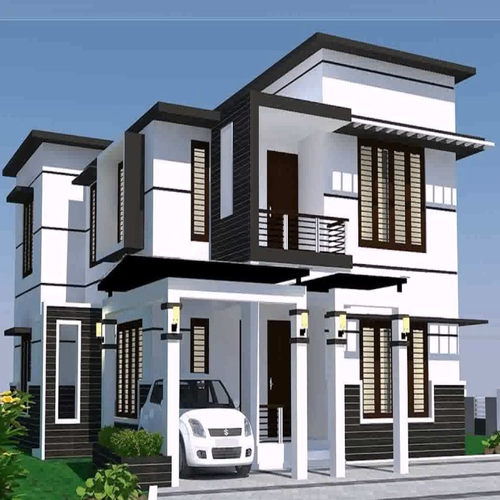Building House: (5, 33, 487, 453)
